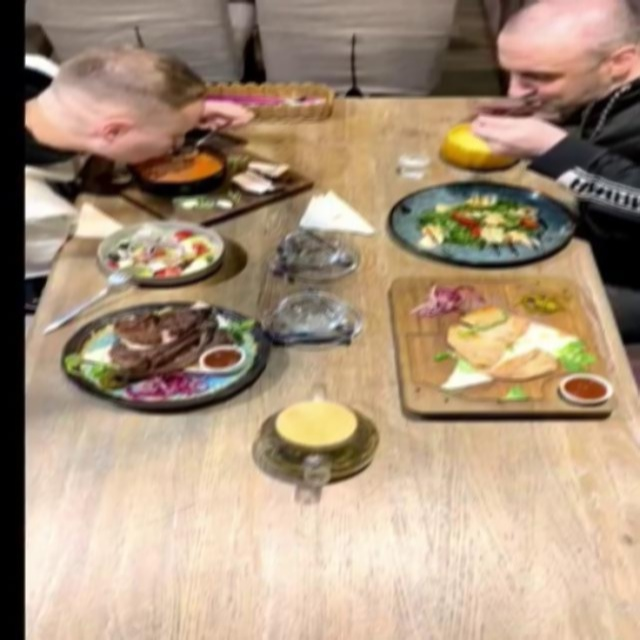meat: (391, 280, 617, 417), (62, 301, 274, 409)
salad: (391, 181, 580, 265), (96, 220, 226, 285)
soup: (88, 135, 316, 226), (441, 122, 520, 170)
tea: (242, 374, 388, 501)
